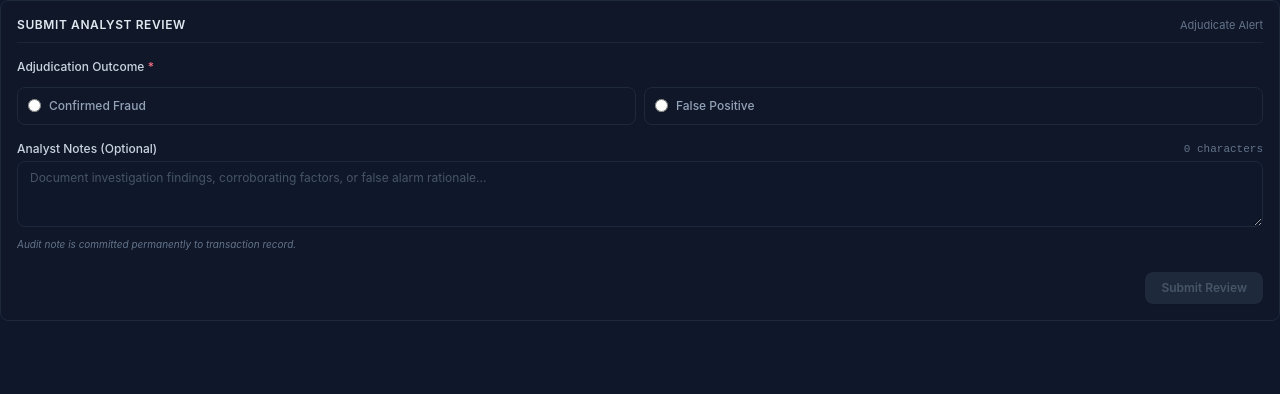
Test: Review workflow components › AnalystReviewForm › submits review successfully and calls submitReview with outcome and note
The width and height of the screenshot is (1280, 394).
Click the radio button labelled "Confirmed Fraud" at point(34, 106), box 28,99 -> 41,112
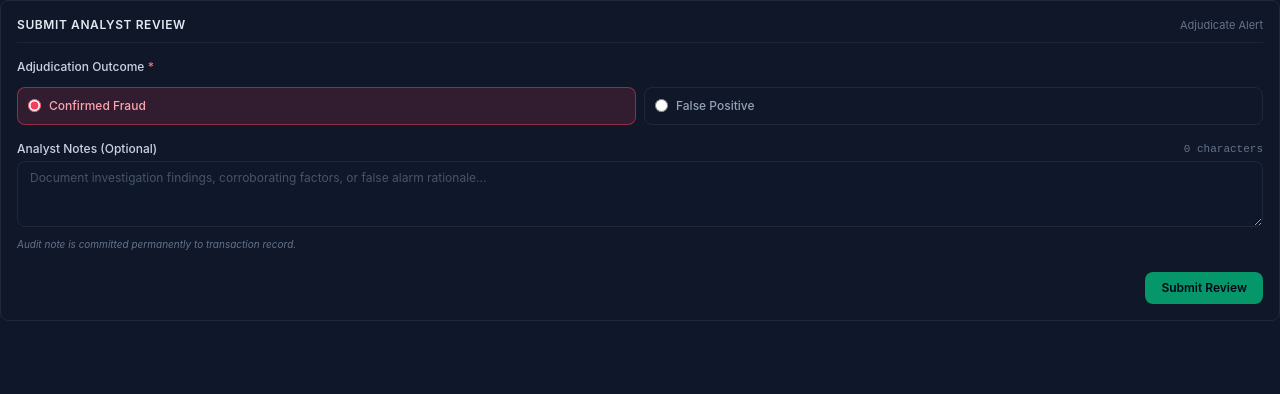
Replace the text in the text box with placeholder "Document investigation findings" with "High confidence fraud" at point(640, 194), box 17,161 -> 1263,227
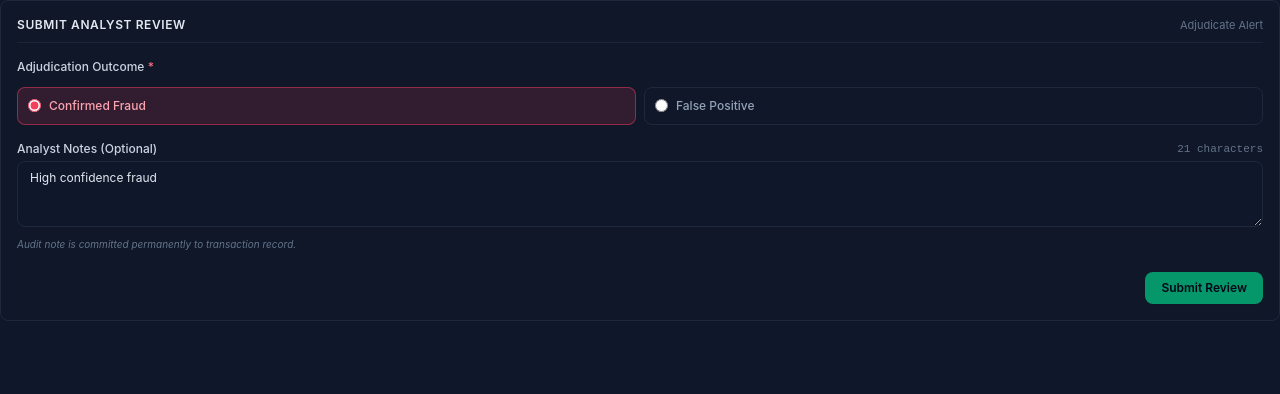
expect the text with test id "note-char-counter" reads "21 characters": met, box 1177,140 -> 1263,157
Click the button with test id "submit-review-btn" at point(1204, 288), box 1145,272 -> 1263,304
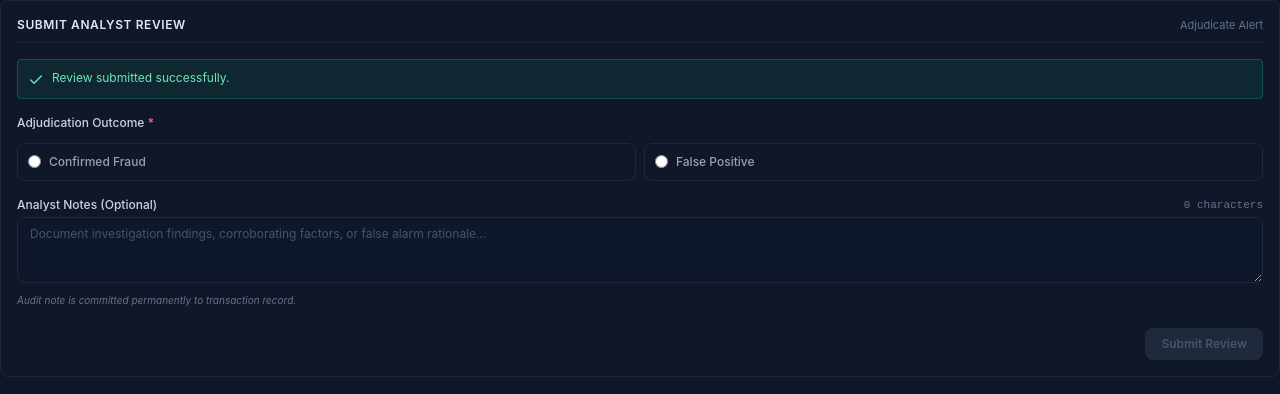
expect the message "Review submitted successfully." is shown: met, box 17,58 -> 1263,98
